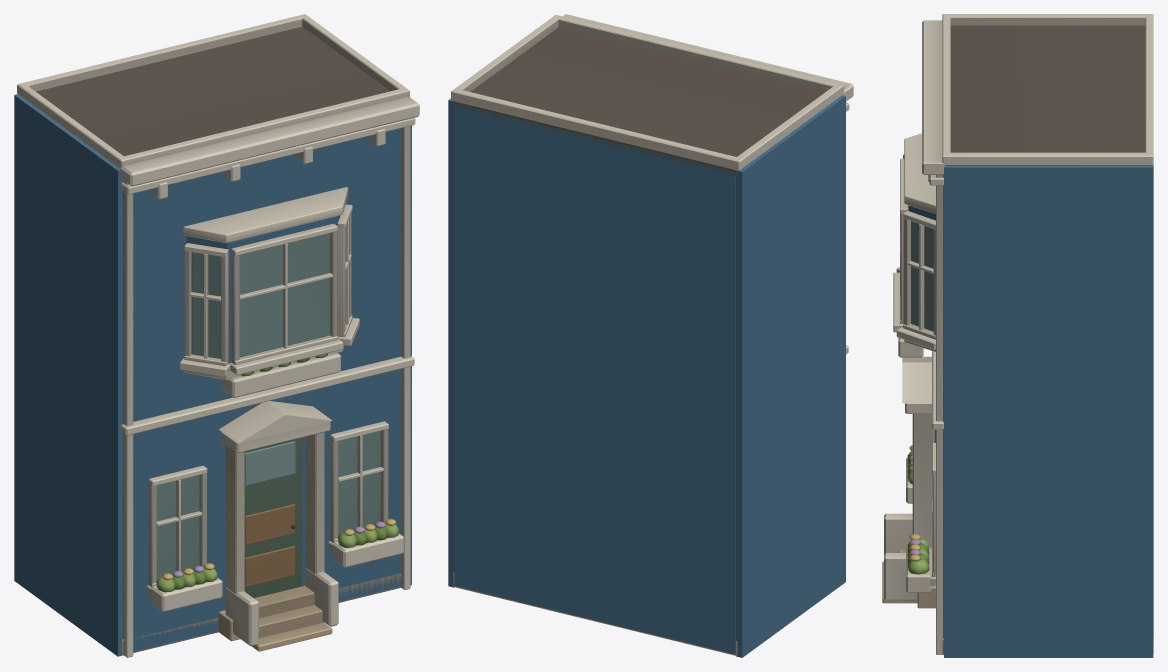
Rendered from facade_sf_5.glb.
The picture shows the model from 3 angles, left to right: view 1: azimuth 30°, elevation 25°; view 2: azimuth 150°, elevation 25°; view 3: azimuth 270°, elevation 25°; orthographic projection.
Parts seen in each view (by area): view 1: facade_sf_5; view 2: facade_sf_5; view 3: facade_sf_5.
Part boxes in pixels (x1=…): facade_sf_5: x1=14, y1=14, x2=419, y2=657; facade_sf_5: x1=448, y1=14, x2=853, y2=657; facade_sf_5: x1=882, y1=14, x2=1153, y2=657.
Bounding box in the file's own units: 4.05 × 6.53 × 3.21.
